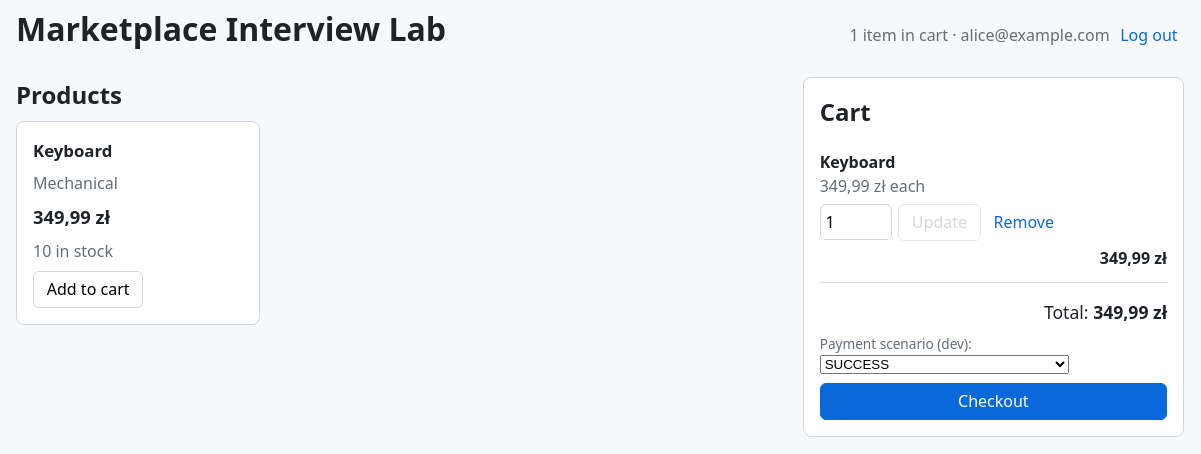
Test: App authentication › logs out and returns to the logged-out view
The image size is (1201, 454).
Expected: the button "Checkout" is shown, [820, 382, 1167, 420]
What coordinates should you click on to do the following:
click the button "Log out"
I would click on:
 (1149, 35)
Its box is [1114, 17, 1184, 53].
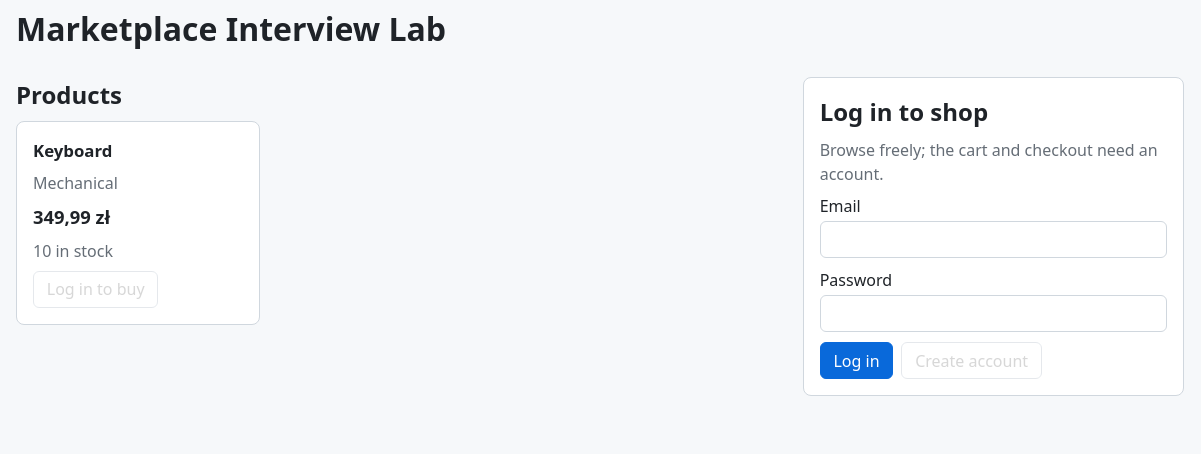
Now the heading "Log in to shop" is shown, box [820, 95, 988, 128]
